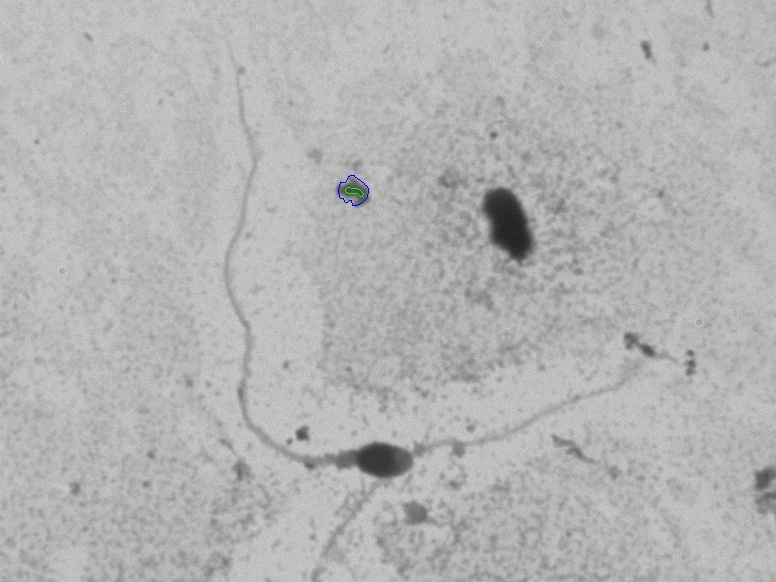Normal: (172, 54, 420, 516)
